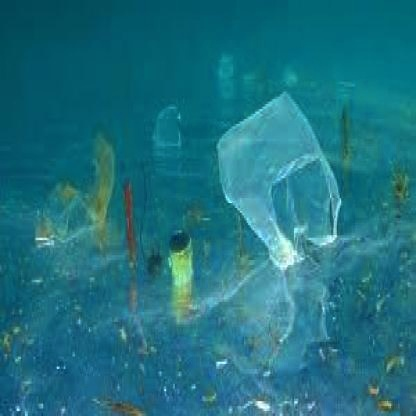can: (161, 218, 198, 300)
pbag: (215, 84, 348, 265), (28, 119, 121, 260)
